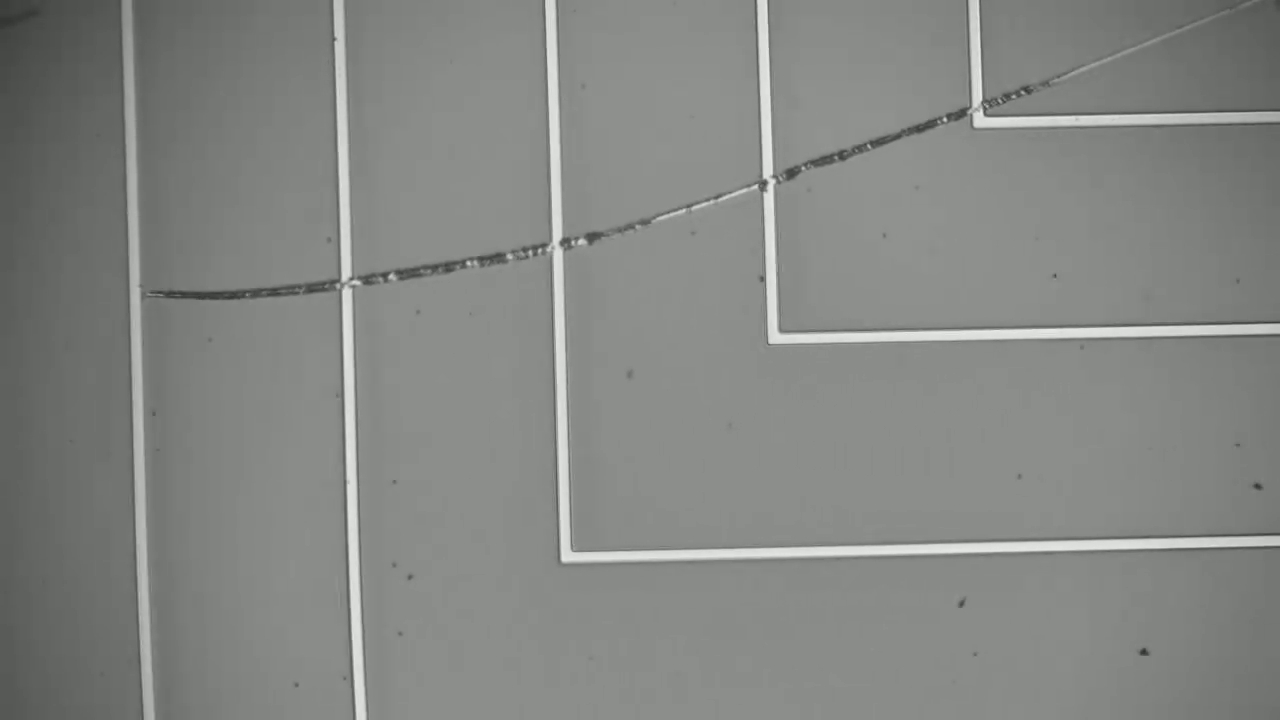scratch: (156, 1, 1263, 309)
